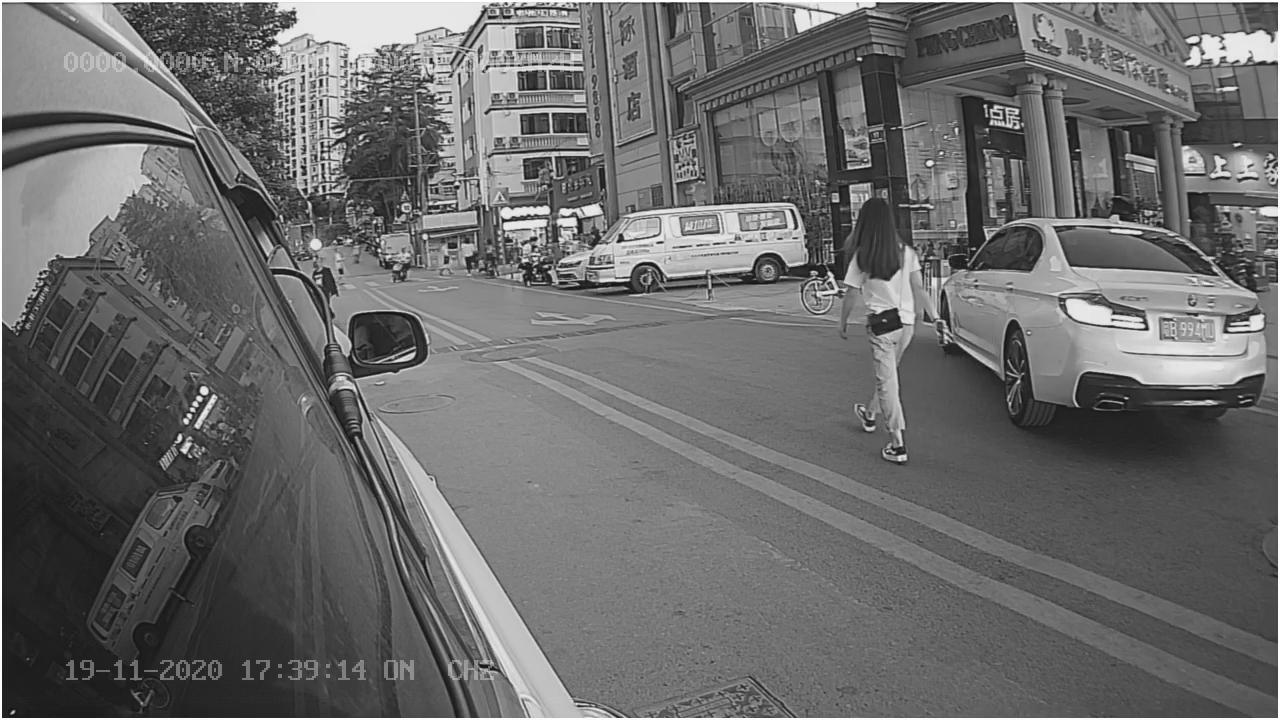person: (834, 195, 939, 469)
